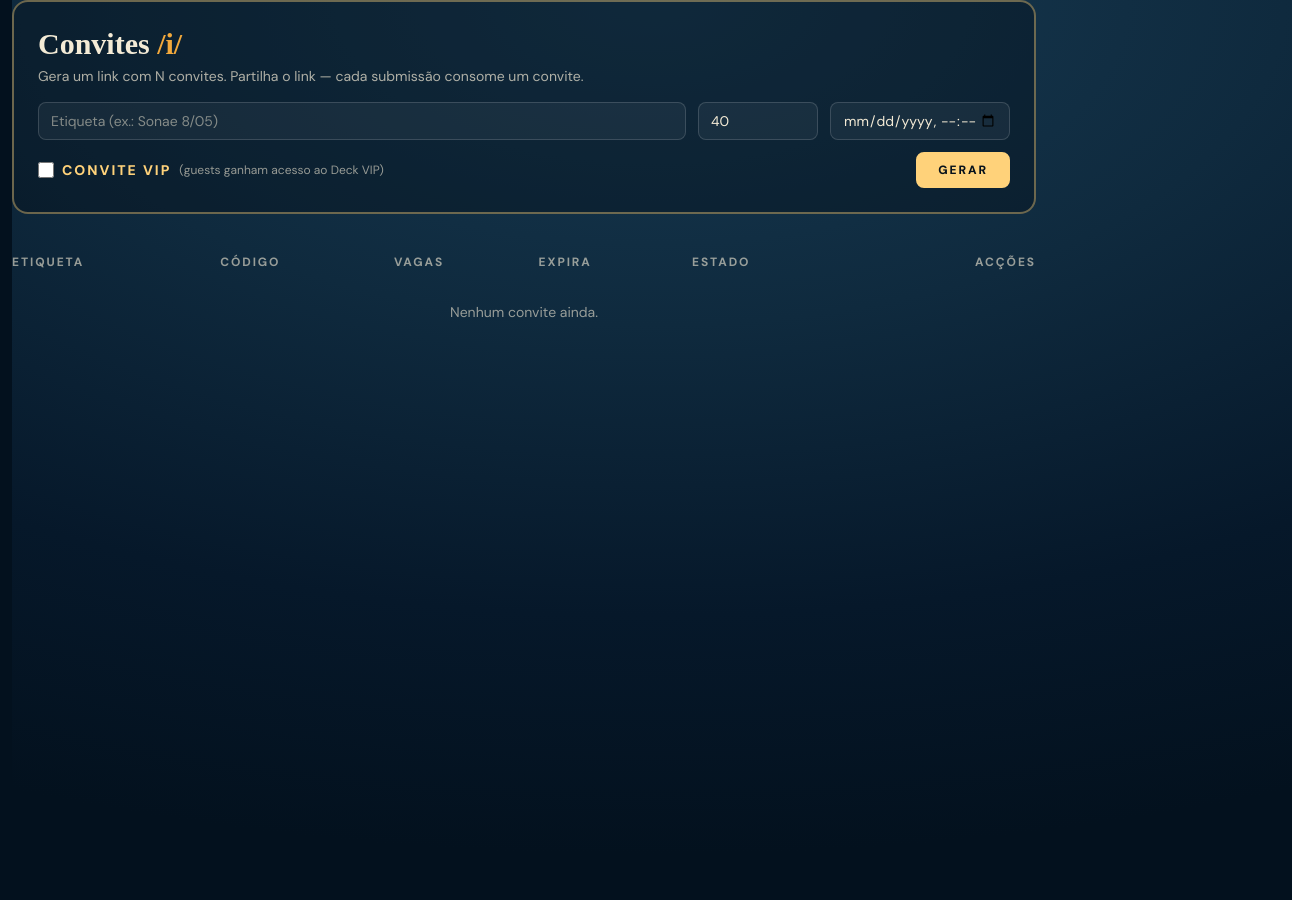
InvitesPanel › create flow: POST + refresh
In the field with placeholder "Etiqueta (ex.: Sonae 8/05)": x=362, y=121 [38,102,686,140], type "Test Co"
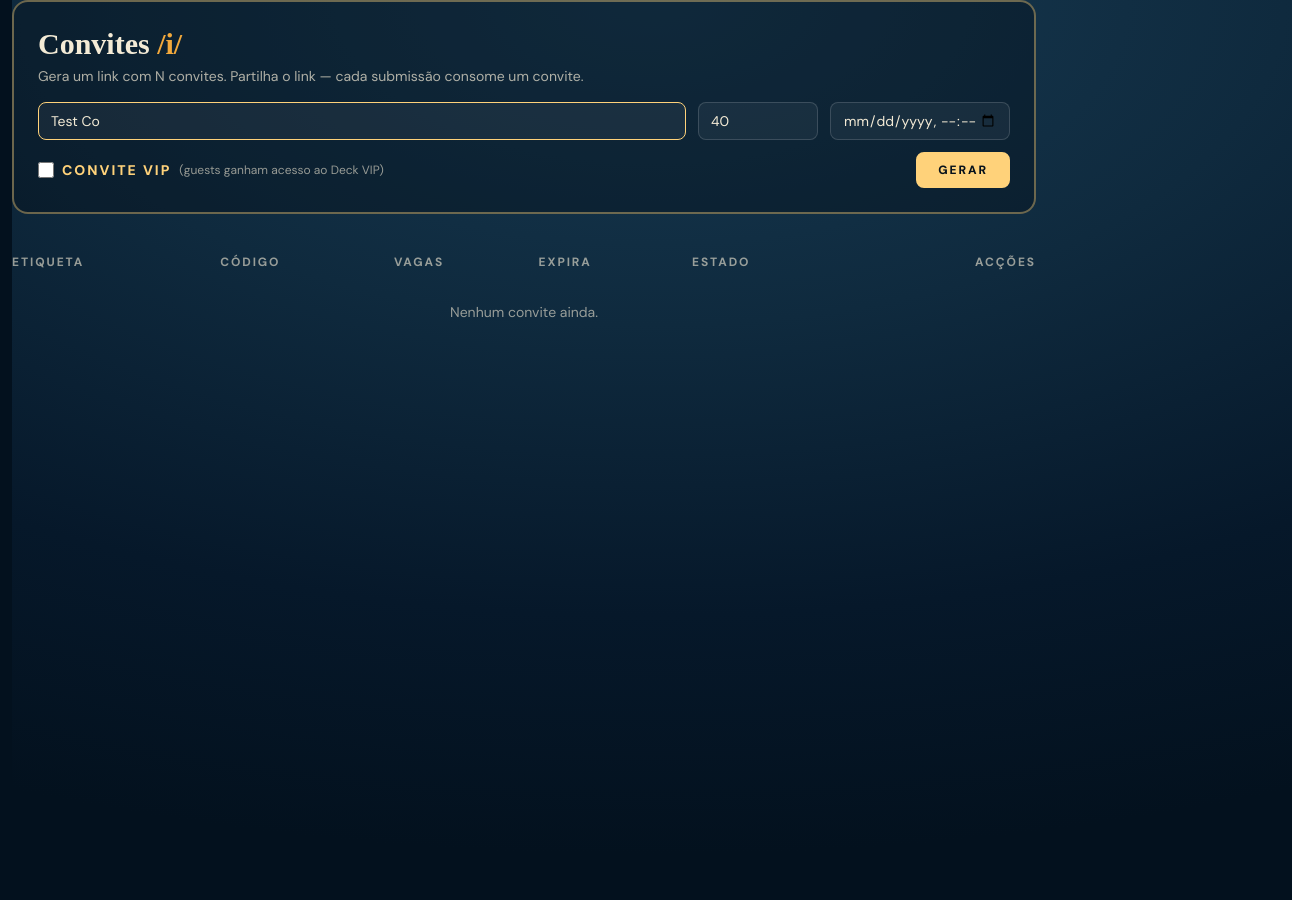
Click the button "Gerar": x=963, y=170 [916,152,1010,188]
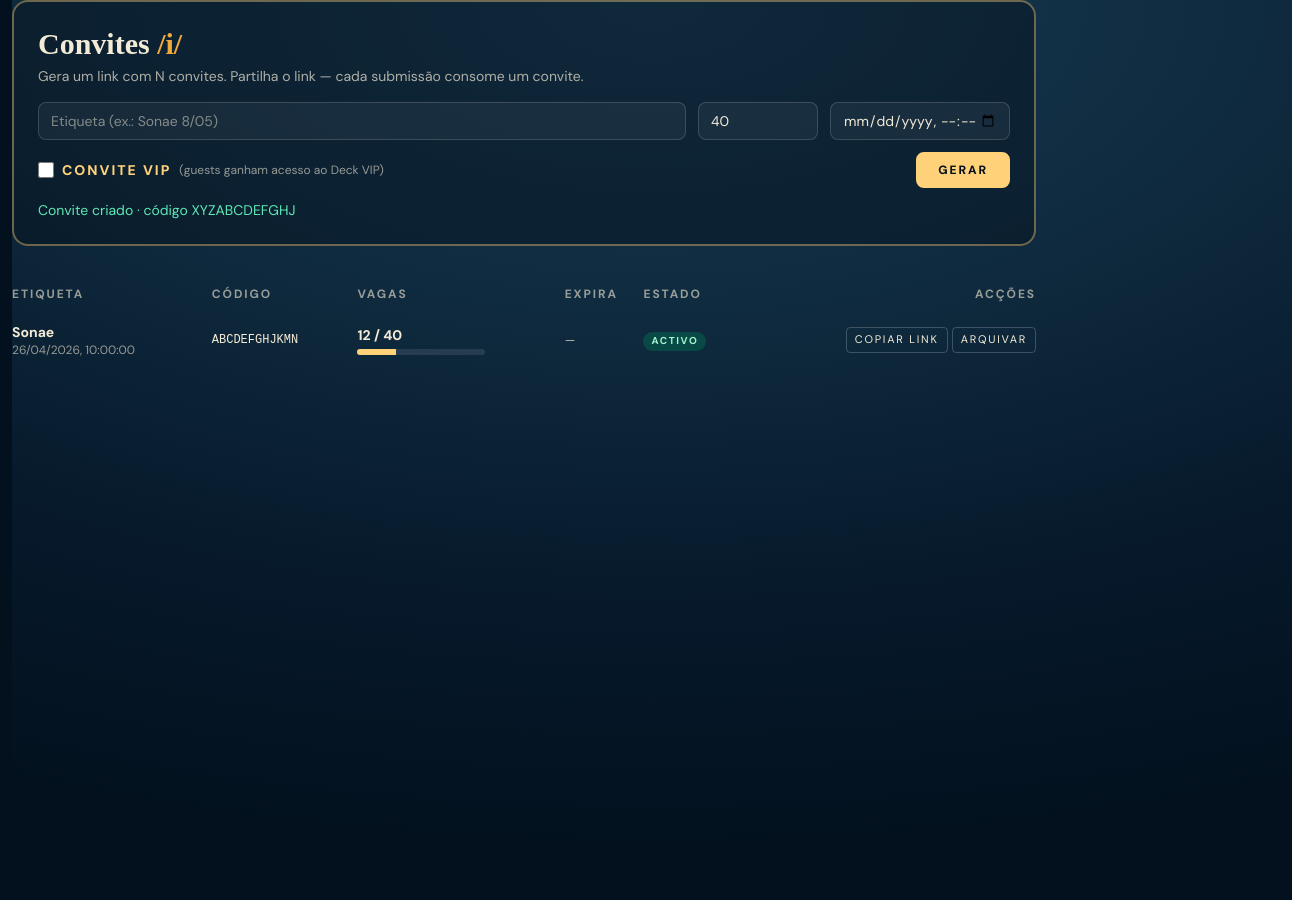
expect the message shows "Convite criado": met, box [38,201,296,219]
